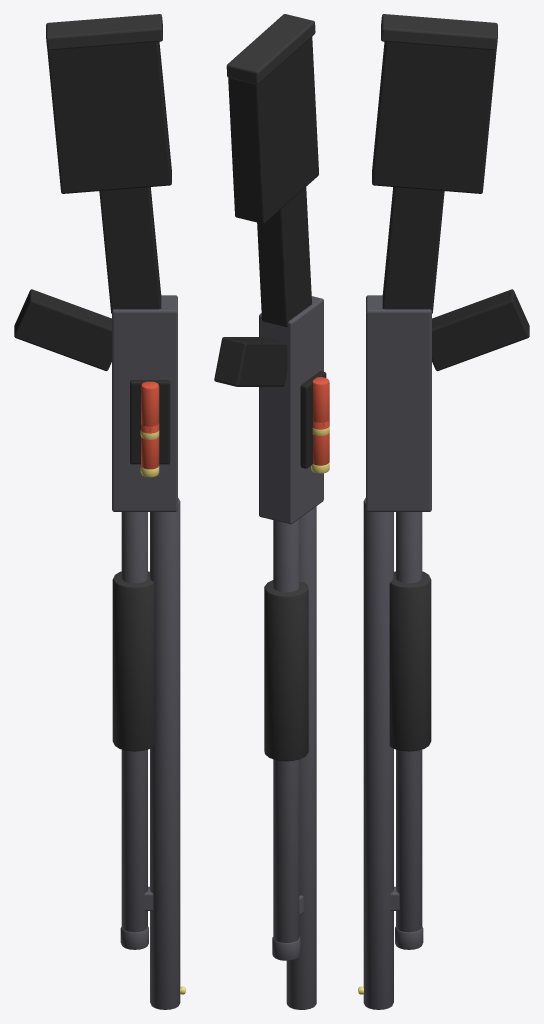
The model's file is shotgun.glb.
3 views of the same model, side by side, from view 1: azimuth 90°, elevation 25°; view 2: azimuth 150°, elevation 25°; view 3: azimuth 270°, elevation 25° (orthographic).
Visible parts, largest first — view 1: shotgun; view 2: shotgun; view 3: shotgun.
Boxes of the visible parts, x1,y1,x2,y2 form: shotgun: (14, 14, 185, 1009); shotgun: (214, 14, 329, 1009); shotgun: (358, 14, 529, 1009).
Bounding box in the file's own units: 0.0612 × 1.07 × 0.169.
